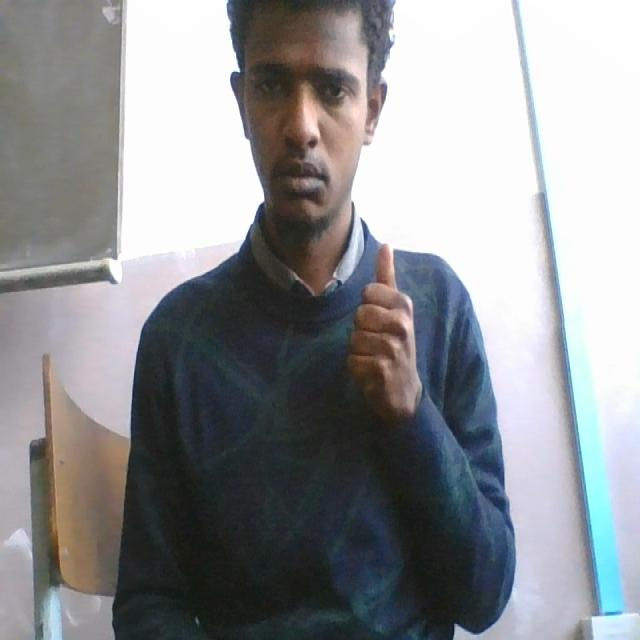akst: (306, 224, 433, 428)
